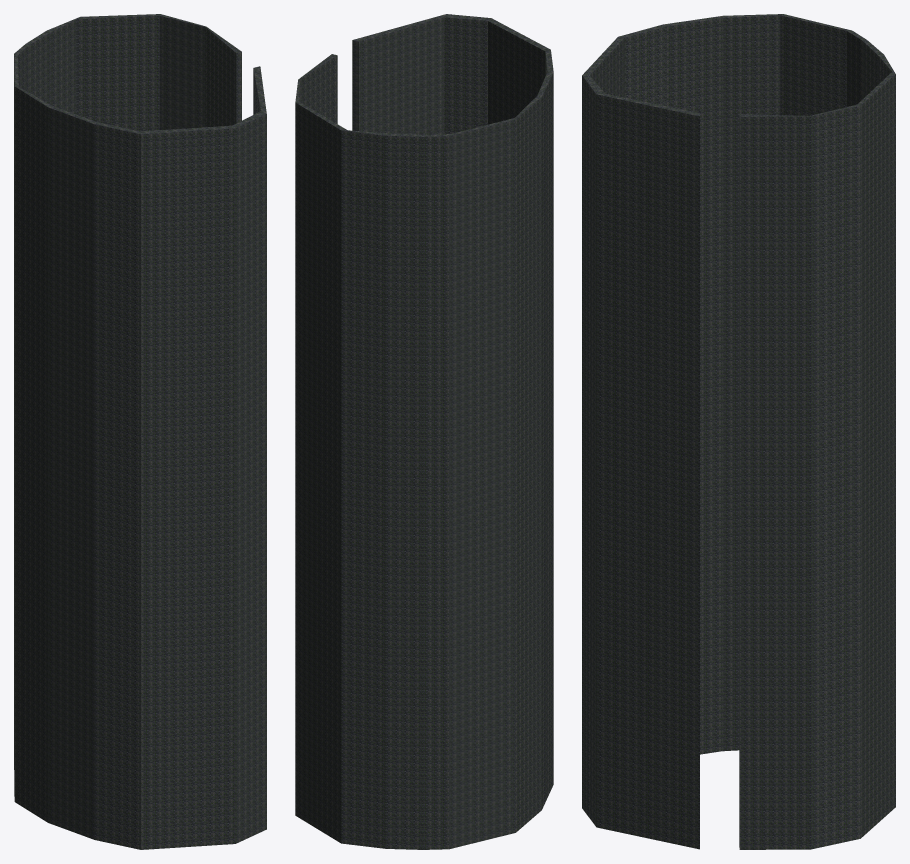
Rendered from ExteriorElevatorFix.gltf.
3 renders of one model, left to right at view 1: azimuth 30°, elevation 25°; view 2: azimuth 150°, elevation 25°; view 3: azimuth 270°, elevation 25°, orthographic. The views are drawn at different scales.
Visible parts, largest first — view 1: PolyShape (1); view 2: PolyShape (1); view 3: PolyShape (1).
Boxes of the visible parts, <box> form: PolyShape (1): <box>14,14,266,849</box>; PolyShape (1): <box>295,14,553,849</box>; PolyShape (1): <box>582,14,895,849</box>.
Size of the model in its own units: 26.38 by 87.54 by 33.96.
2 materials, 2 textured.
